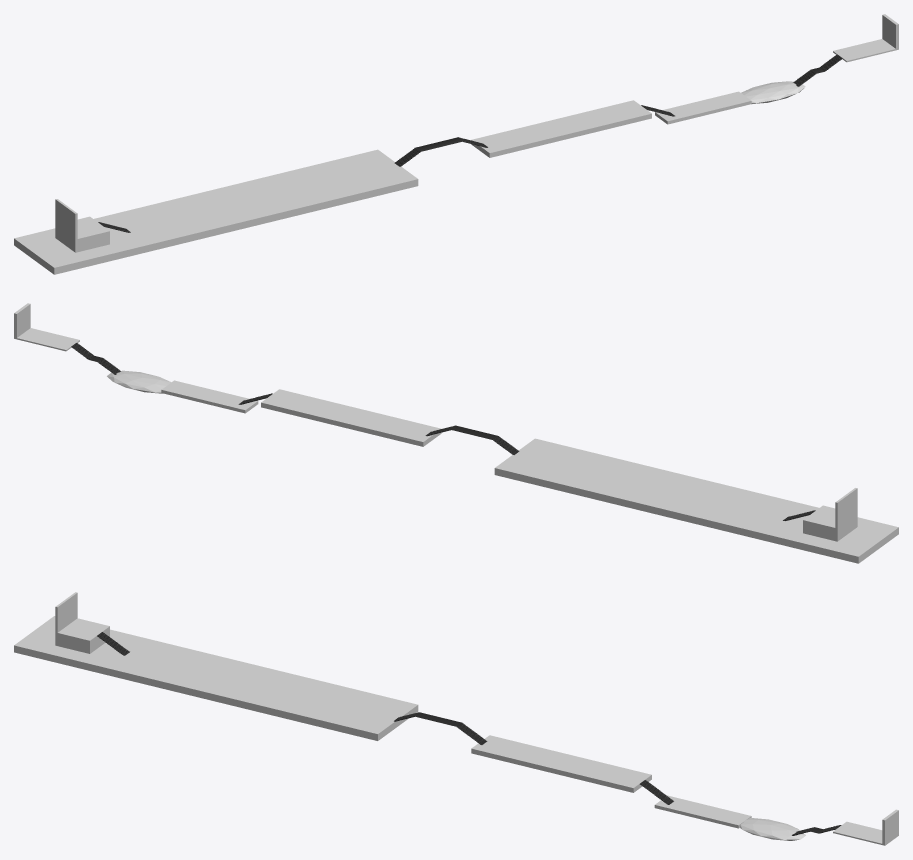
Rendered from Prototipo_Cenário 002.fbx.
The picture shows the model from 3 angles, top to bottom: view 1: azimuth 30°, elevation 25°; view 2: azimuth 150°, elevation 25°; view 3: azimuth 330°, elevation 25°; orthographic projection.
Visible parts, largest first — view 1: Cube, Cube.004, Cube.011, Cube.006, Cube.009, Icosphere; view 2: Cube, Cube.004, Cube.011, Cube.006, Cube.009, Icosphere; view 3: Cube, Cube.004, Cube.011, Cube.006, Cube.009, Icosphere.
Part boxes in pixels (x1,y1,x2,y2): Cube: [14, 149, 418, 274]; Cube.004: [471, 100, 651, 157]; Cube.011: [55, 199, 109, 252]; Cube.006: [655, 91, 751, 124]; Cube.009: [833, 14, 898, 62]; Icosphere: [741, 81, 805, 104]; Cube: [494, 438, 898, 563]; Cube.004: [261, 389, 441, 446]; Cube.011: [803, 488, 857, 541]; Cube.006: [161, 380, 258, 413]; Cube.009: [14, 303, 79, 351]; Icosphere: [107, 370, 171, 393]; Cube: [14, 616, 418, 740]; Cube.004: [471, 735, 651, 792]; Cube.011: [55, 592, 109, 653]; Cube.006: [654, 795, 751, 828]; Cube.009: [833, 809, 898, 845]; Icosphere: [740, 818, 805, 840].
Size of the model in its own units: 25708 by 1798 by 2095.
